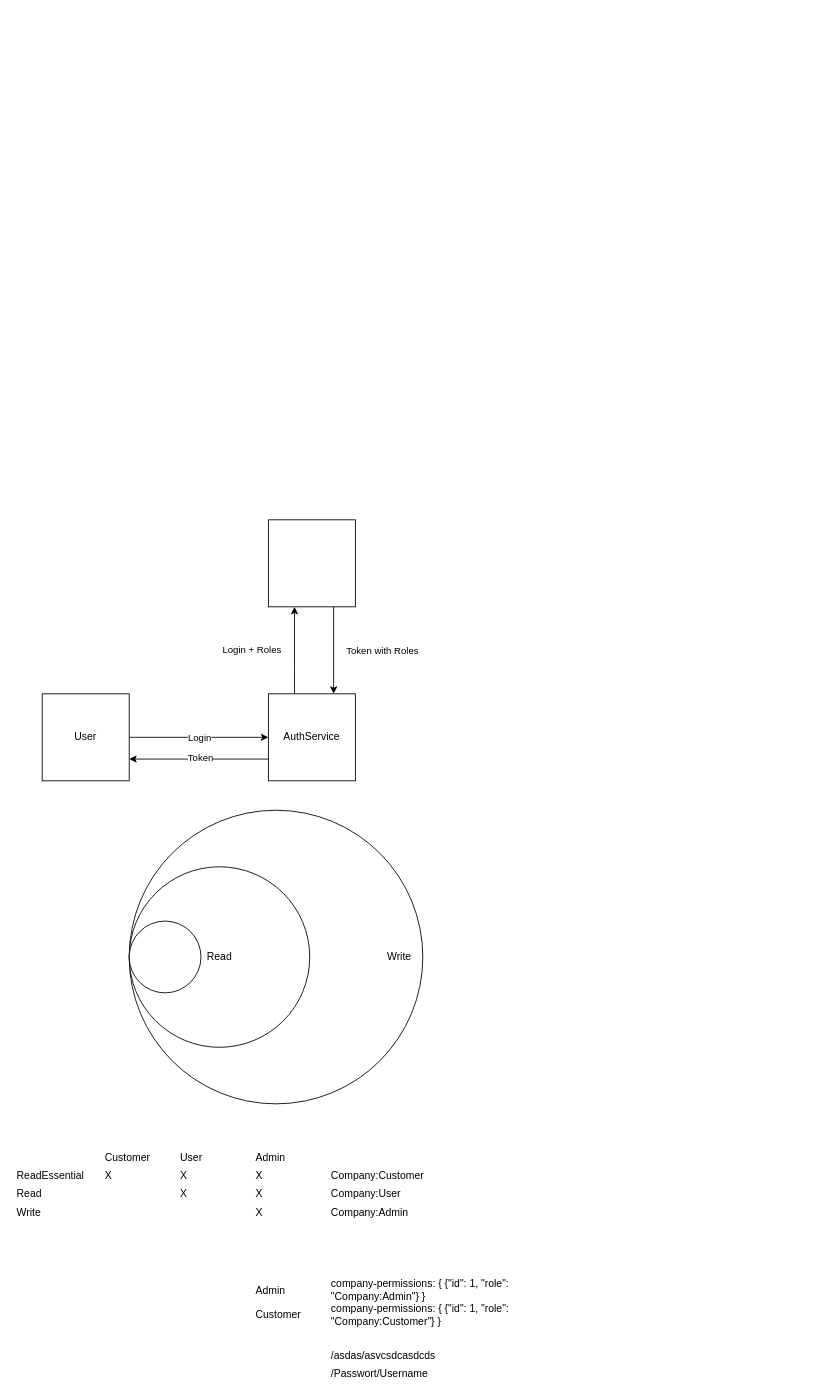
This 835x1398 diagram has some shape labels left out. The centre of each missing label's shape, as x and y in pixels:
Customer: pixel 164 956
Keycloak: pixel 311 563
